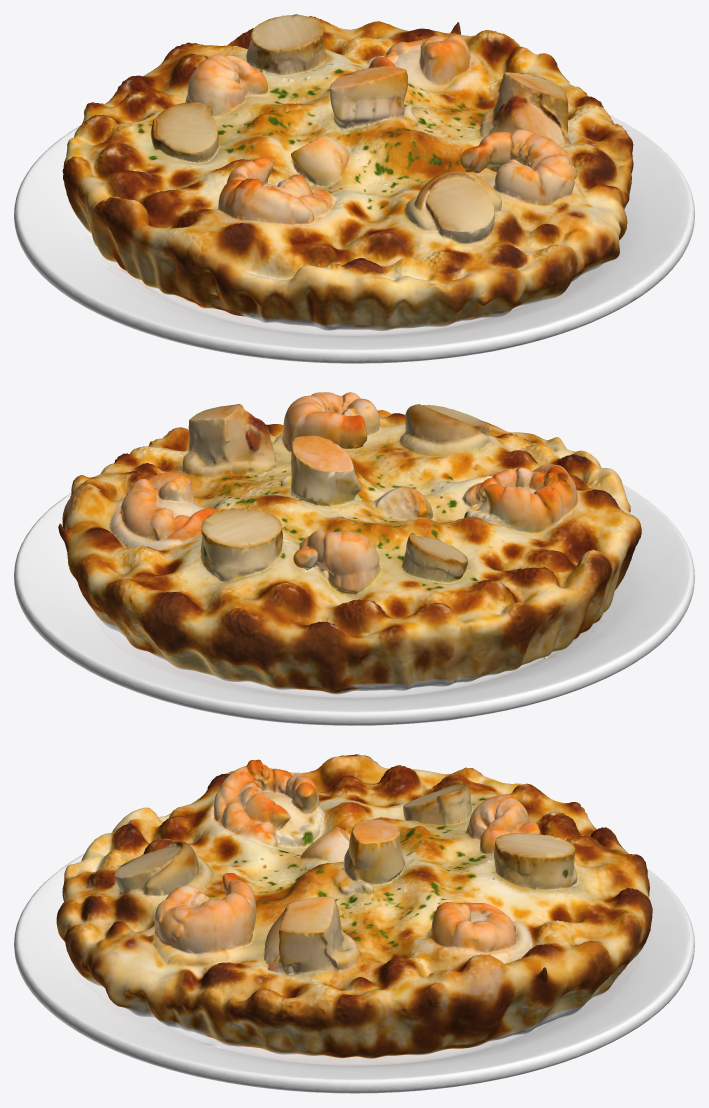
The model's file is Seafood Gratin.glb.
3 renders of one model, top to bottom at view 1: azimuth 30°, elevation 25°; view 2: azimuth 150°, elevation 25°; view 3: azimuth 270°, elevation 25°, orthographic.
Visible parts, largest first — view 1: Mesh_0.001; view 2: Mesh_0.001; view 3: Mesh_0.001.
Part boxes in pixels (x1,y1,x2,y2): Mesh_0.001: (14, 14, 694, 363); Mesh_0.001: (14, 392, 694, 725); Mesh_0.001: (14, 754, 694, 1093).
Bounding box in the file's own units: 0.12 × 0.035 × 0.12.
Materials: 1 (1 with a texture image).
